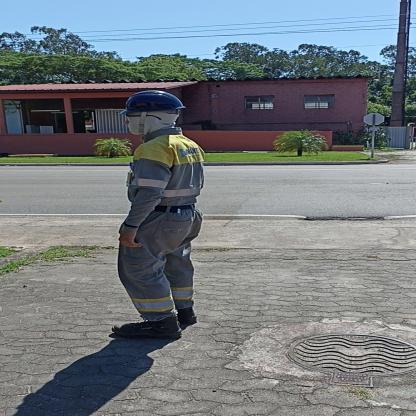Balaclava: (125, 109, 180, 138)
Capacete: (118, 88, 185, 112)
